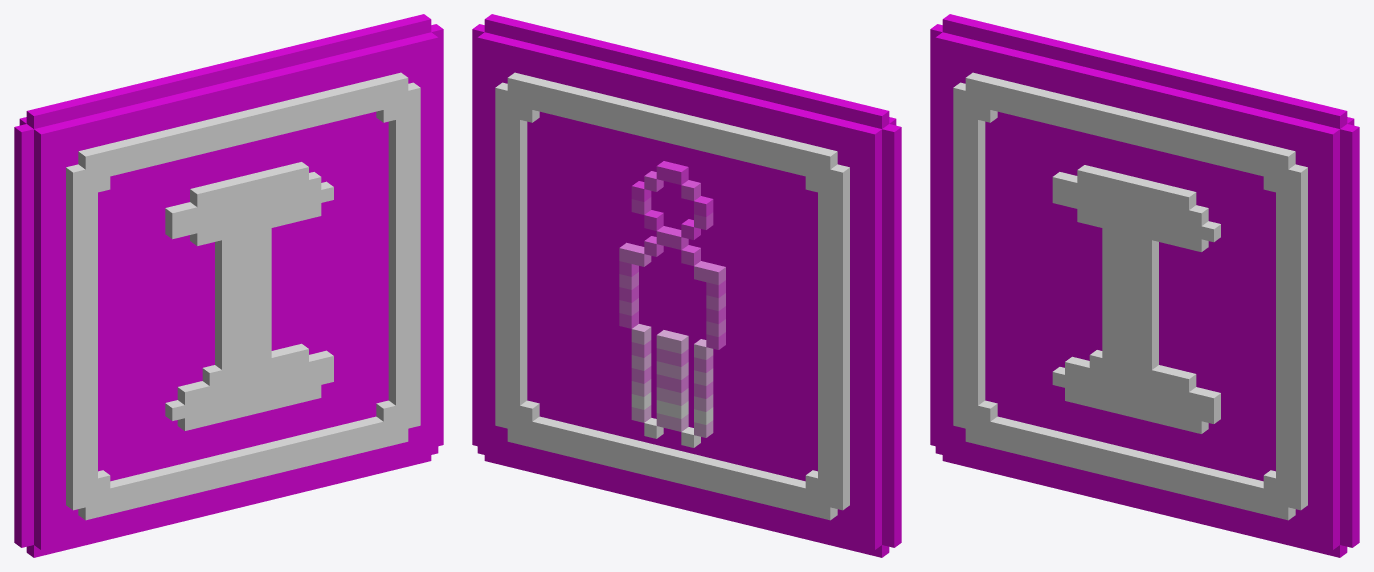
The model's file is powerup_invisibility.fbx.
3 views of the same model, side by side, from view 1: azimuth 30°, elevation 25°; view 2: azimuth 150°, elevation 25°; view 3: azimuth 330°, elevation 25° (orthographic).
Visible parts, largest first — view 1: powerup_invisibility; view 2: powerup_invisibility; view 3: powerup_invisibility.
Part boxes in pixels (x1,y1,x2,y2): powerup_invisibility: (14,14,443,557); powerup_invisibility: (472,14,901,557); powerup_invisibility: (930,14,1359,557).
Size of the model in its own units: 1.05 by 1.05 by 0.155.
